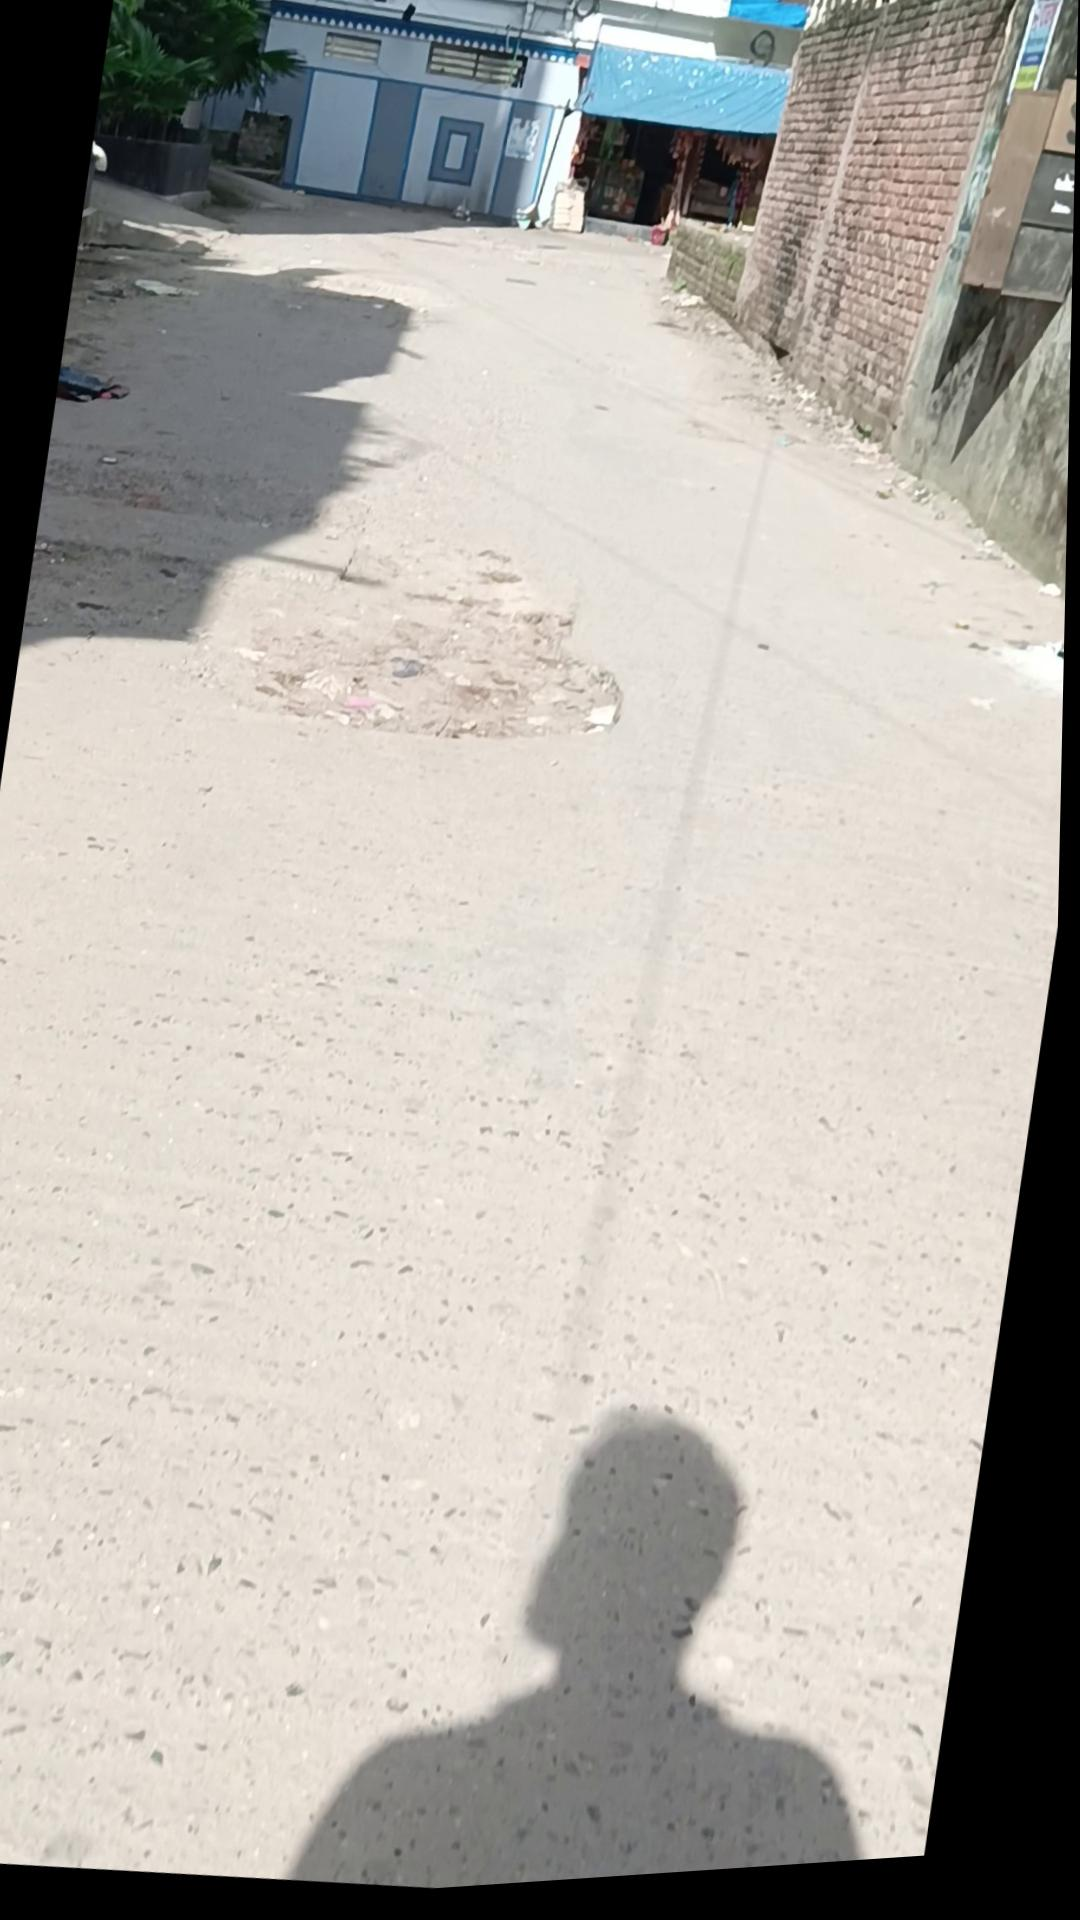Broken-road: (0, 109, 1077, 1920)
Motorcycle: (955, 79, 1077, 328)
Tree: (621, 0, 1080, 669)
